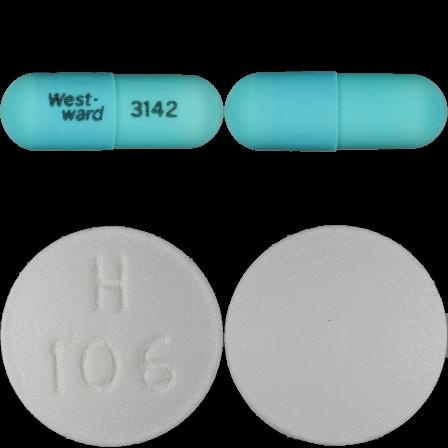52959-055: (0, 0, 224, 224)
